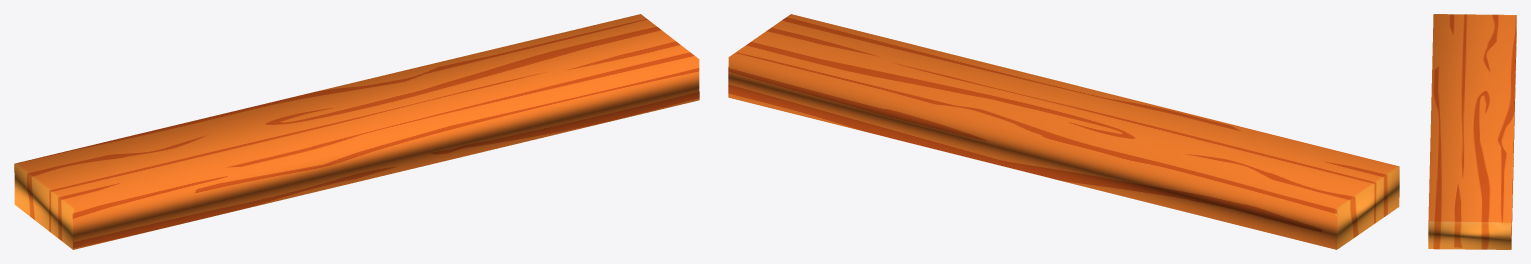
The model's file is Doska.fbx.
The picture shows the model from 3 angles, left to right: view 1: azimuth 30°, elevation 25°; view 2: azimuth 150°, elevation 25°; view 3: azimuth 270°, elevation 25°; orthographic projection. The views are drawn at different scales.
Parts seen in each view (by area): view 1: Doska; view 2: Doska; view 3: Doska.
Boxes of the visible parts, <box> form: Doska: <box>14,14,699,249</box>; Doska: <box>728,14,1399,249</box>; Doska: <box>1428,14,1516,249</box>.
Bounding box in the file's own units: 425 × 27.02 × 76.26.
Materials: 1 (1 with a texture image).
